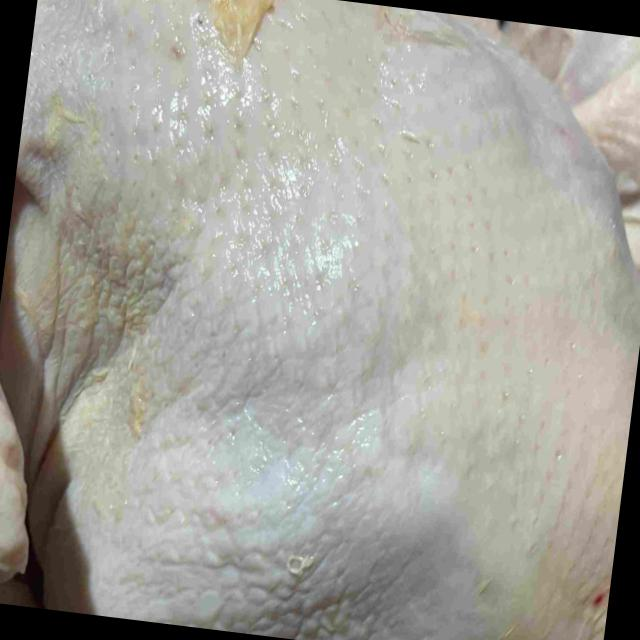back: (22, 0, 640, 640)
